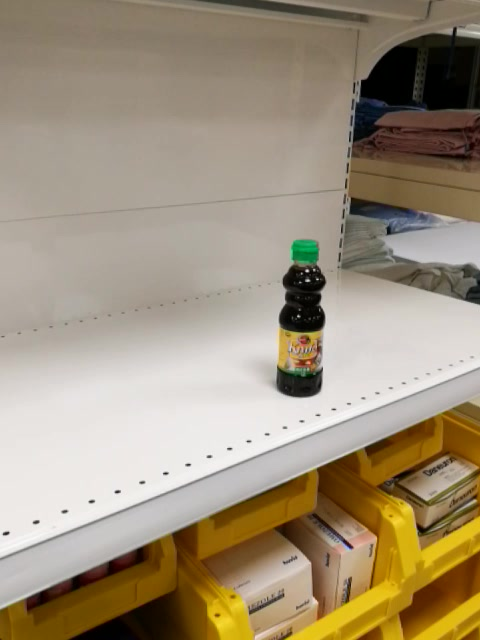cookingoil: (275, 236, 329, 400)
